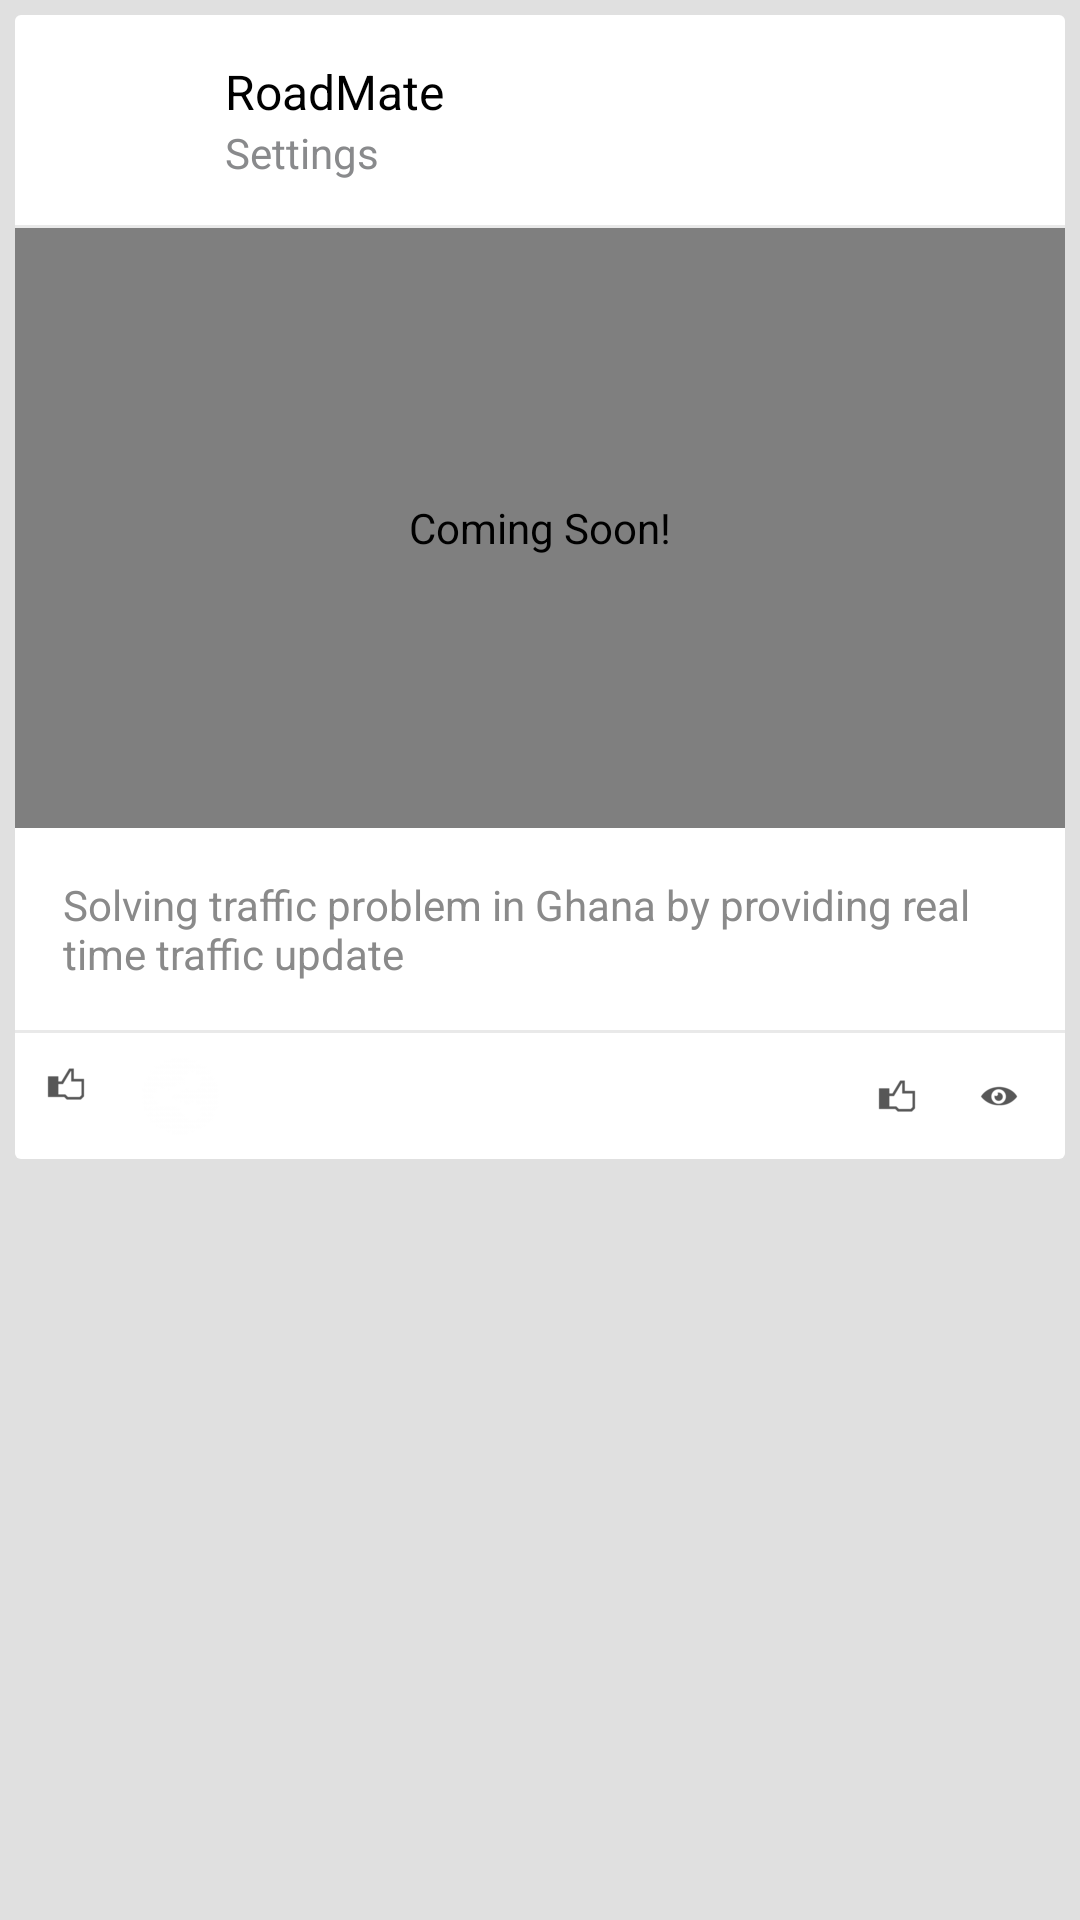

Named icons in this screenshot (1080 x 1920) and their bounding boxes, (x1, y1, x2, y2):
likes: (48, 1068, 84, 1100), (879, 1080, 915, 1112)
views: (981, 1086, 1017, 1106)
